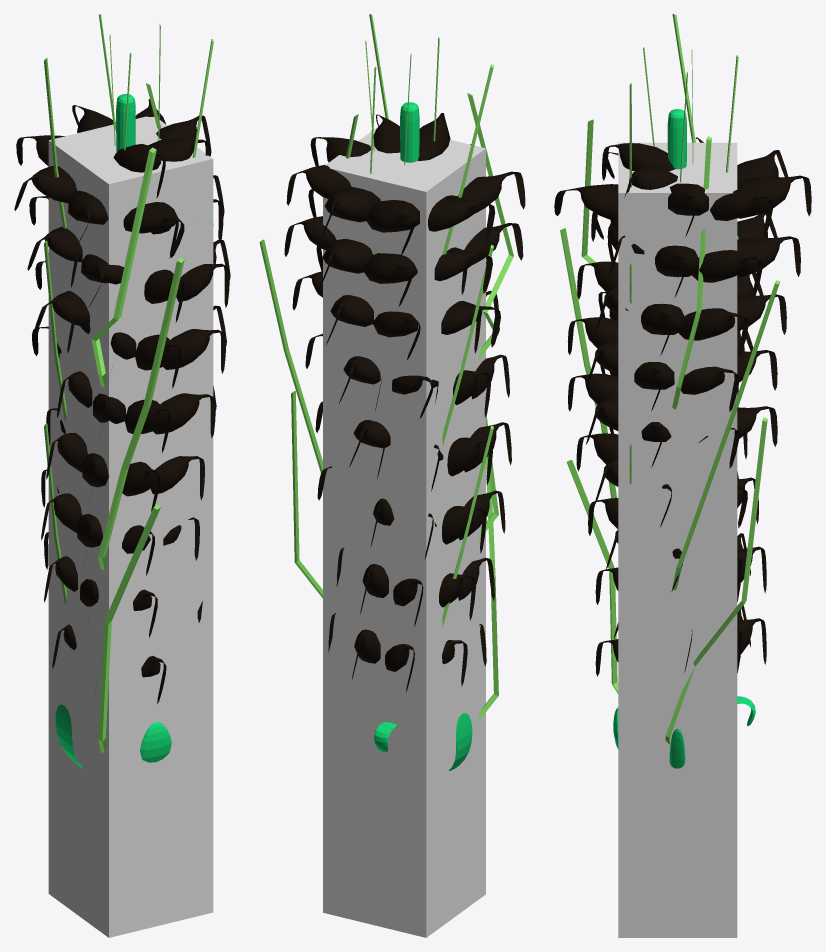
The model's file is maizi_.glb.
3 renders of one model, left to right at view 1: azimuth 30°, elevation 25°; view 2: azimuth 150°, elevation 25°; view 3: azimuth 270°, elevation 25°, orthographic.
Visible parts, largest first — view 1: boxRoot, Cube.001, Cube.002, Cube; view 2: boxRoot, Cube.001, Cube.002, Cube; view 3: boxRoot, Cube.001, Cube.002, Cube.
Part boxes in pixels (bbox=[...]): boxRoot: bbox=[48, 116, 213, 937]; Cube.001: bbox=[14, 99, 230, 703]; Cube.002: bbox=[44, 14, 213, 752]; Cube: bbox=[55, 94, 171, 768]; boxRoot: bbox=[323, 126, 485, 937]; Cube.001: bbox=[284, 113, 525, 691]; Cube.002: bbox=[259, 14, 513, 721]; Cube: bbox=[374, 102, 472, 770]; boxRoot: bbox=[618, 142, 737, 937]; Cube.001: bbox=[554, 137, 811, 676]; Cube.002: bbox=[560, 14, 779, 744]; Cube: bbox=[613, 109, 755, 768].
Bounding box in the file's own units: 1.33 × 5.65 × 1.52.
